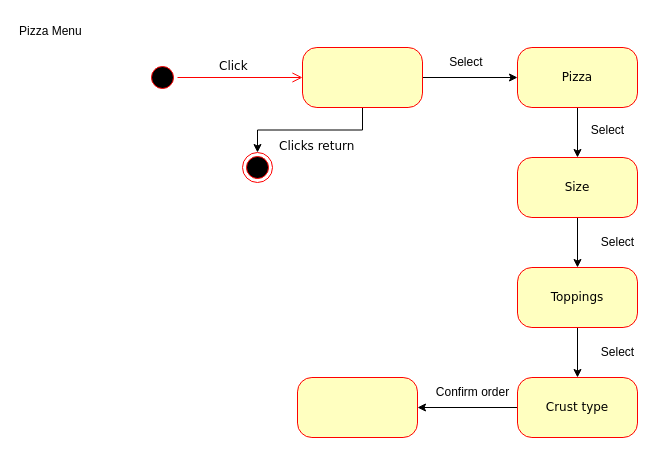
The diagram is 664 pixels wide and 455 high, and some of its shapes have lost their labels. The box of each missing label's shape, as (x1, y1, x2, y2) in pixels:
Add to cart: (296, 376, 418, 438)
Menu: (302, 46, 422, 108)
